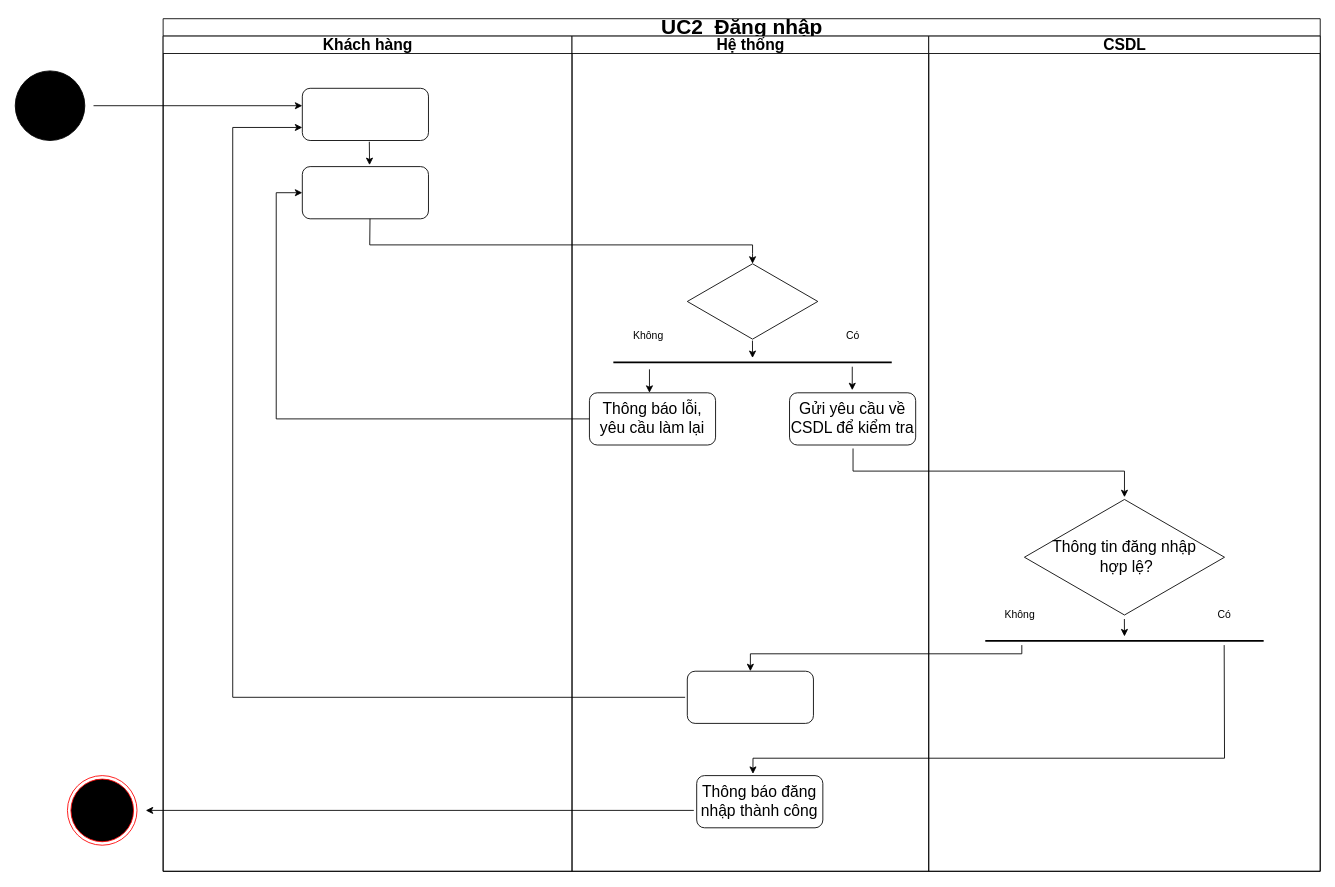
Some shapes in this 1335 by 887 pixel diagram are drawn without their labels. Here are the shapes that lost their labels. From the top down, the centre of each, then its label:
pixel 364 114: Nhập Email + Mật khẩu
pixel 364 192: Hoàn thành Captcha
pixel 752 301: Captcha hợp lệ?
pixel 749 696: Thông báo lỗi, yêu cầu nhập lại
